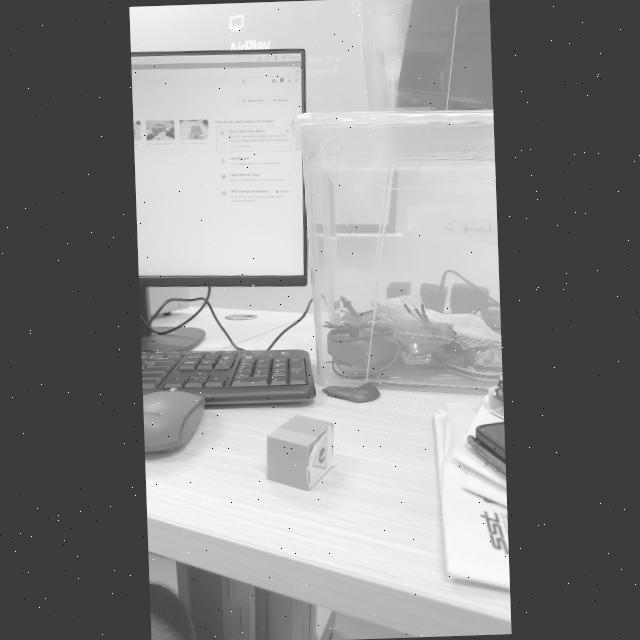Earthquake: (312, 434, 326, 468)
